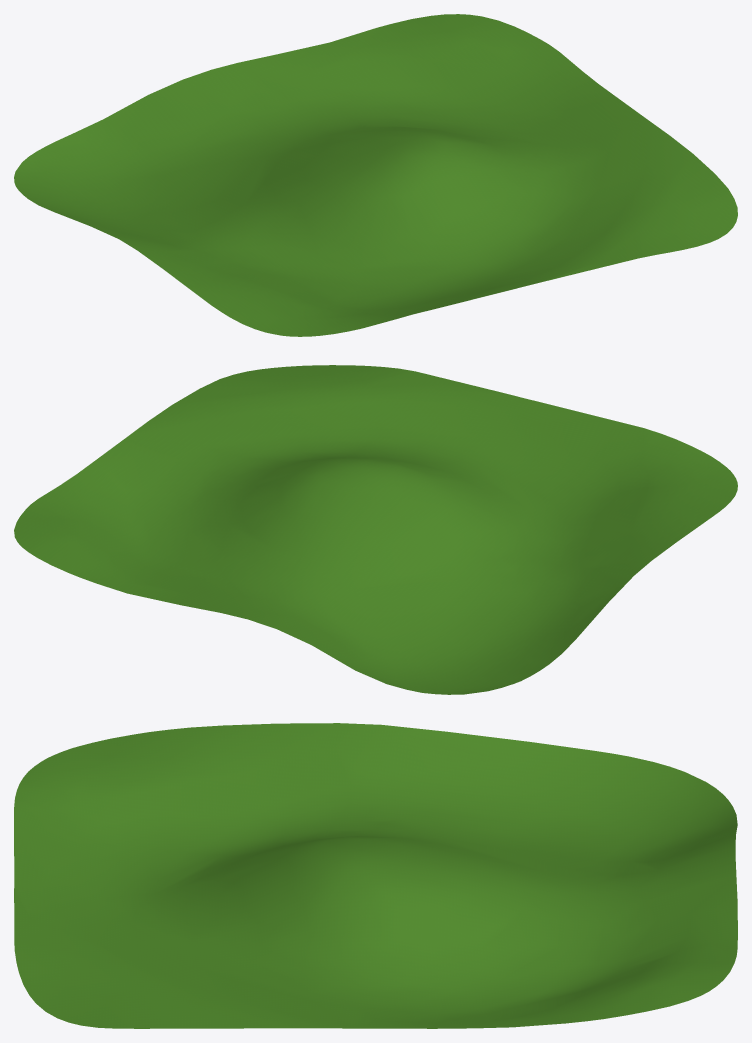
The model's file is big_field.glb.
The picture shows the model from 3 angles, top to bottom: view 1: azimuth 30°, elevation 25°; view 2: azimuth 150°, elevation 25°; view 3: azimuth 270°, elevation 25°; orthographic projection. The views are drawn at different scales.
Parts seen in each view (by area): view 1: Plane; view 2: Plane; view 3: Plane.
Boxes of the visible parts, x1,y1,x2,y2 form: Plane: (14, 14, 737, 336); Plane: (14, 365, 737, 694); Plane: (14, 723, 737, 1028).
Size of the model in its own units: 83.41 by 10.43 by 82.58.
1 material, 1 textured.
